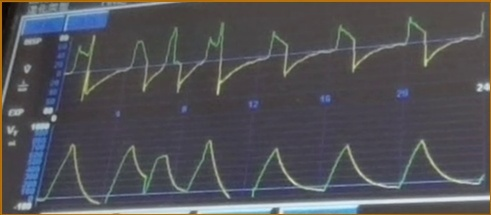Double_Triggering Flow: (64, 20, 447, 102)
Double_Triggering Volume: (37, 141, 449, 205)
